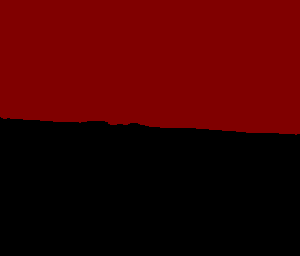Sky: (1, 1, 299, 134)
